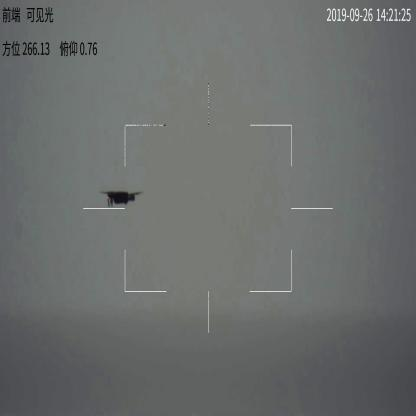uav: (100, 188, 142, 212)
